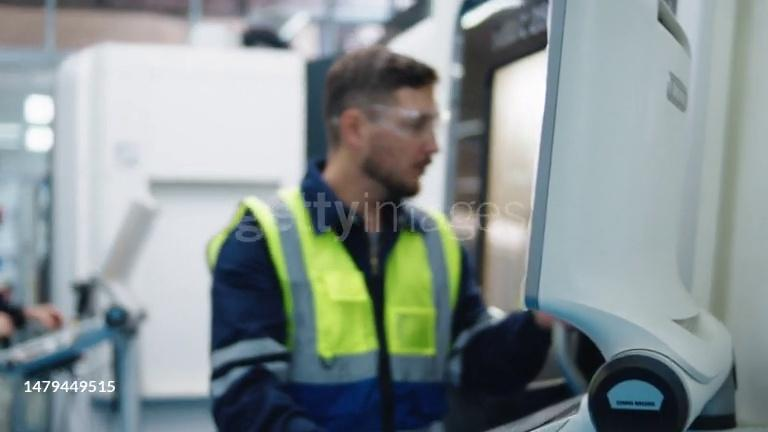person: (206, 41, 558, 432)
